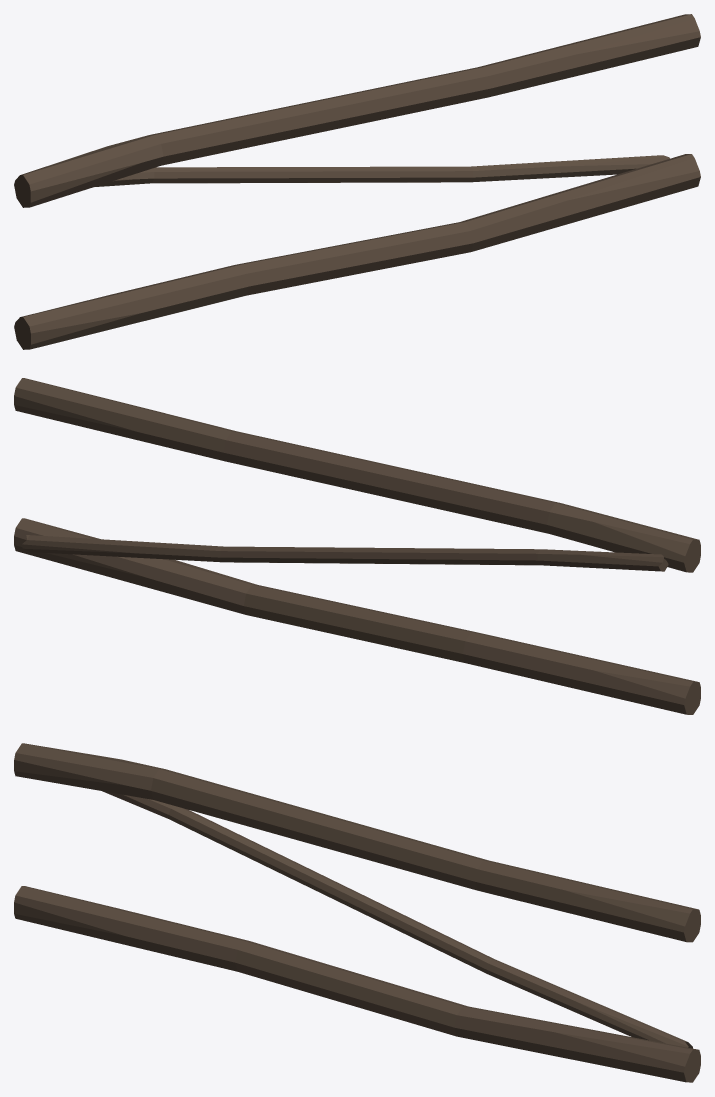
Rendered from SM_Props_Farm_Fence_Round_Rail.fbx.
The picture shows the model from 3 angles, top to bottom: view 1: azimuth 30°, elevation 25°; view 2: azimuth 150°, elevation 25°; view 3: azimuth 330°, elevation 25°; orthographic projection.
Visible parts, largest first — view 1: SM_Props_Farm_Fence_Round_Rail; view 2: SM_Props_Farm_Fence_Round_Rail; view 3: SM_Props_Farm_Fence_Round_Rail.
Boxes of the visible parts, box(x1,y1,x2,y2) form: SM_Props_Farm_Fence_Round_Rail: box(14, 14, 700, 349); SM_Props_Farm_Fence_Round_Rail: box(14, 378, 700, 714); SM_Props_Farm_Fence_Round_Rail: box(14, 743, 700, 1082).
Bounding box in the file's own units: 319 × 86.25 × 21.34.
